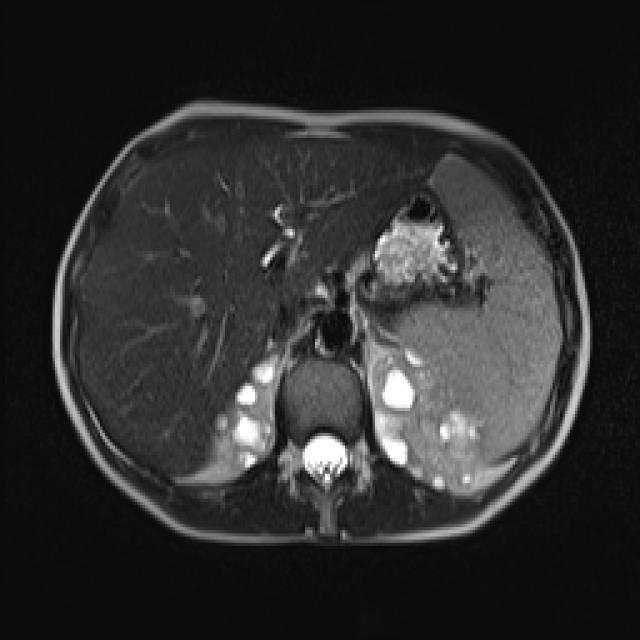sag: (214, 355, 277, 472)
sol: (368, 347, 482, 495)
